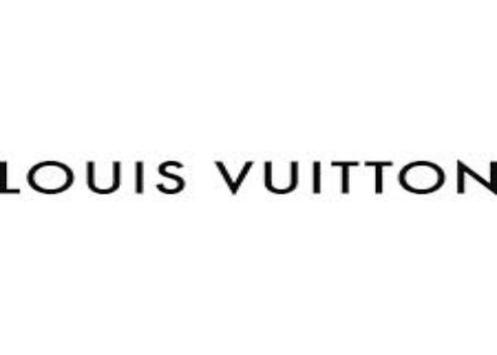LOUIS-VUITTON: (2, 137, 497, 227)
